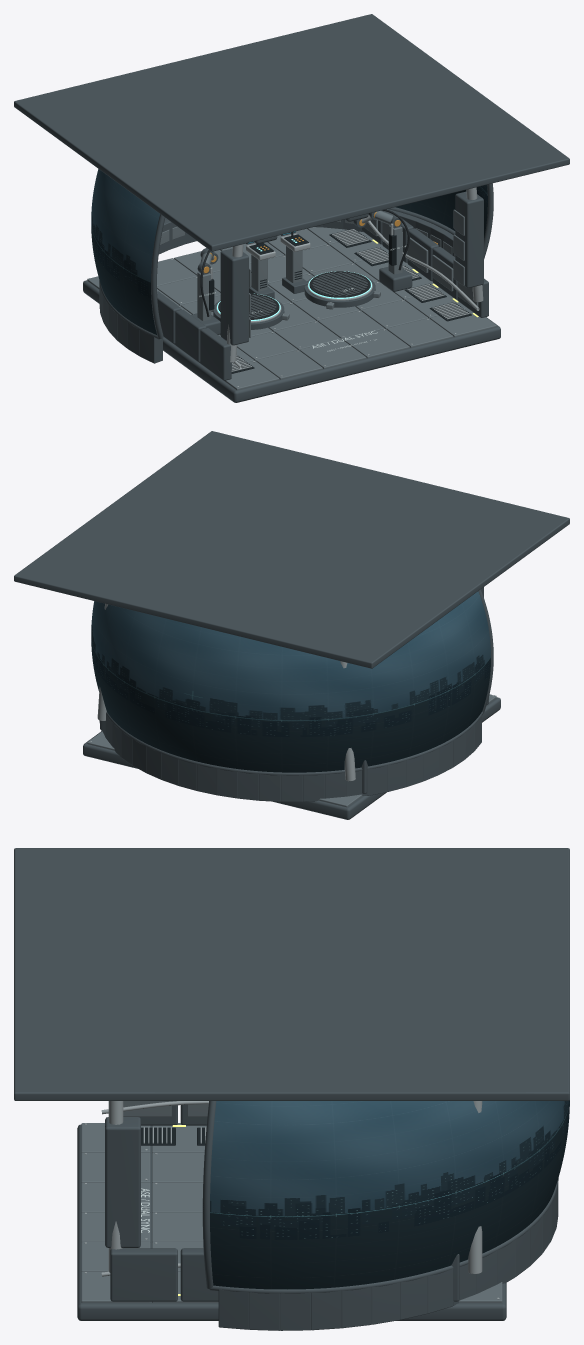
File: Anseong_Cockpit_v01.fbx
The picture shows the model from 3 angles, top to bottom: view 1: azimuth 30°, elevation 25°; view 2: azimuth 150°, elevation 25°; view 3: azimuth 270°, elevation 25°; orthographic projection. The views are drawn at different scales.
Parts seen in each view (by area): view 1: 08_Ceiling_Removable, 01_Deck, 09_Hull, 10_Display, 03_Station_R, 07_Arm_R, 06_Arm_L, 05_Console_R, 02_Station_L, 04_Console_L; view 2: 08_Ceiling_Removable, 10_Display, 09_Hull, 01_Deck; view 3: 08_Ceiling_Removable, 10_Display, 09_Hull, 01_Deck.
Boxes of the visible parts, x1,y1,x2,y2 form: 08_Ceiling_Removable: (14, 14, 569, 251); 01_Deck: (83, 227, 500, 402); 09_Hull: (99, 187, 488, 380); 10_Display: (91, 169, 493, 339); 03_Station_R: (304, 271, 380, 309); 07_Arm_R: (353, 209, 412, 291); 06_Arm_L: (191, 248, 220, 334); 05_Console_R: (280, 231, 310, 293); 02_Station_L: (211, 293, 289, 329); 04_Console_L: (246, 241, 275, 298); 08_Ceiling_Removable: (14, 431, 569, 668); 10_Display: (91, 589, 493, 775); 09_Hull: (97, 587, 488, 801); 01_Deck: (83, 694, 500, 819); 08_Ceiling_Removable: (14, 848, 569, 1100); 10_Display: (202, 1100, 569, 1293); 09_Hull: (101, 1101, 558, 1330); 01_Deck: (77, 1123, 506, 1320).
Bounding box in the file's own units: 8.25 × 4.09 × 7.9.
